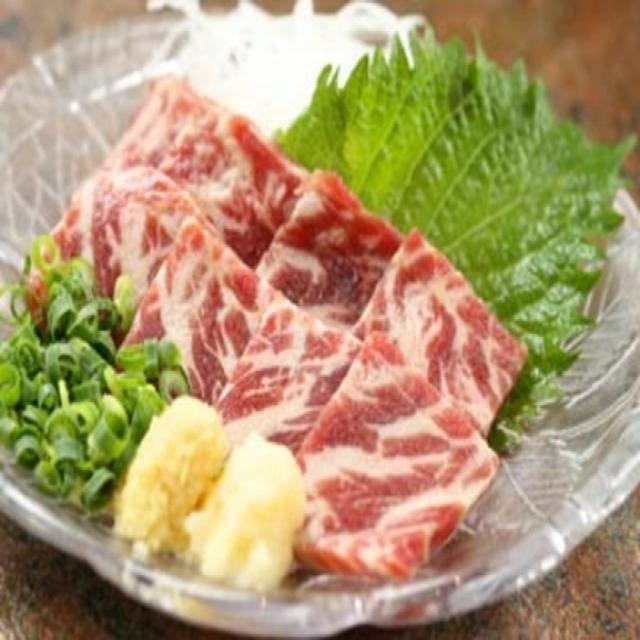刺身生食: (3, 21, 618, 612)
